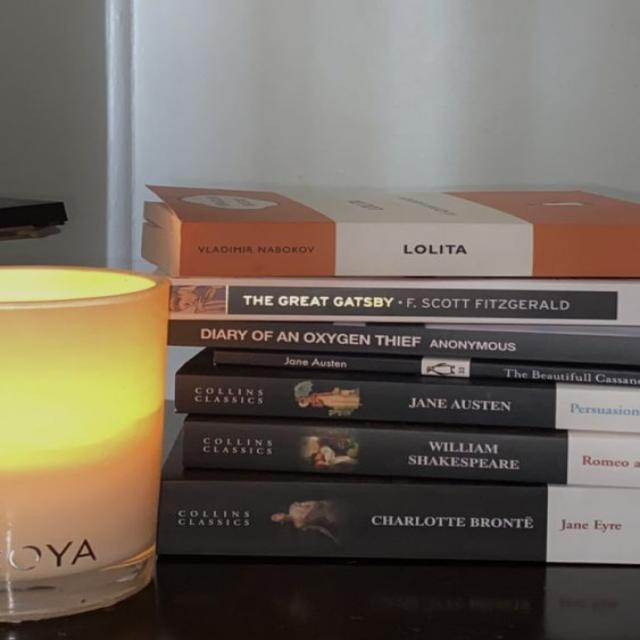book: (160, 480, 639, 564), (175, 416, 639, 487), (175, 377, 639, 433), (182, 223, 640, 273), (169, 280, 639, 325), (169, 321, 639, 365), (211, 349, 639, 387)
candle: (0, 266, 168, 622)
